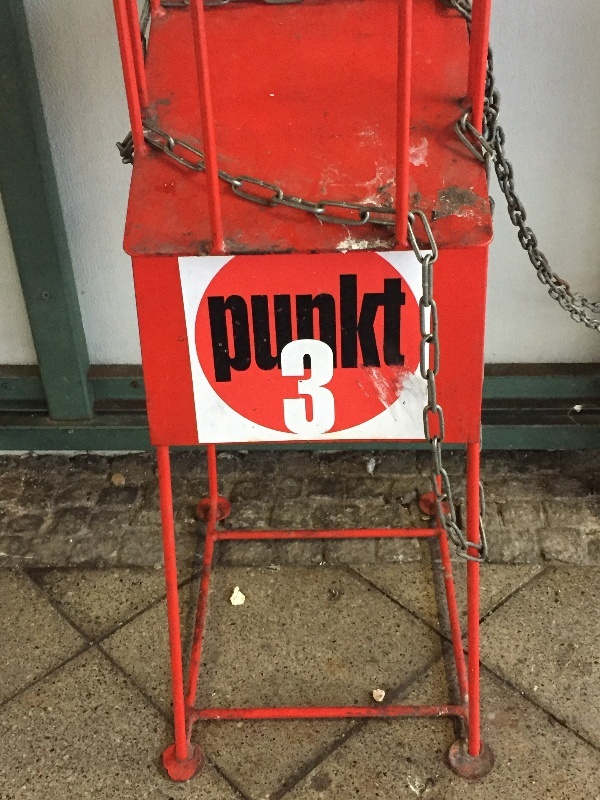text: (209, 272, 224, 386), (225, 272, 240, 386), (241, 272, 256, 386), (257, 272, 272, 386), (273, 272, 288, 386), (289, 272, 304, 386), (305, 272, 320, 386), (321, 272, 336, 386), (337, 272, 352, 386), (353, 272, 368, 386), (369, 272, 384, 386), (385, 272, 400, 386), (289, 339, 304, 438), (305, 339, 320, 438), (321, 339, 335, 438), (279, 339, 288, 438), (401, 272, 405, 386), (206, 272, 208, 386)
